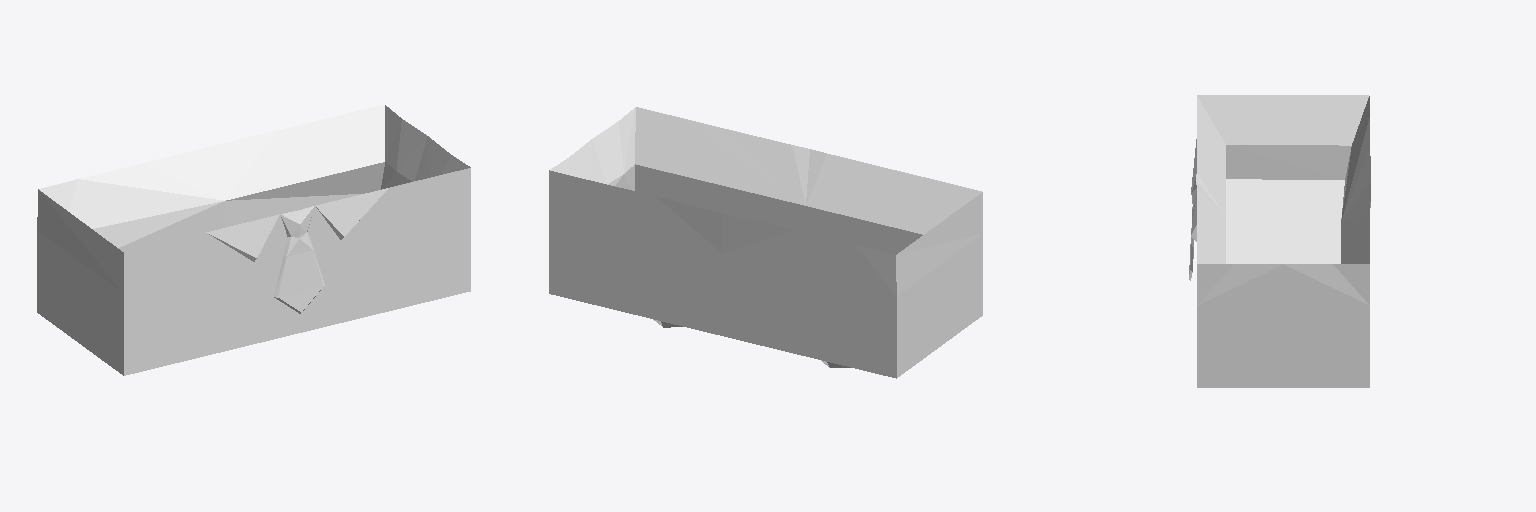
The model's file is pants.obj.
The picture shows the model from 3 angles: view 1: azimuth 30°, elevation 25°; view 2: azimuth 150°, elevation 25°; view 3: azimuth 270°, elevation 25°; orthographic projection.
Parts seen in each view (by area): view 1: mesh00512, mesh0049, mesh0050; view 2: mesh00512, mesh0049, mesh0050; view 3: mesh00512, mesh0049, mesh0050.
Part boxes in pixels (x1,y1,x2,y2): mesh00512: (37,168,470,375); mesh0049: (39,104,470,228); mesh0050: (93,162,411,251); mesh00512: (549,170,982,378); mesh0049: (550,107,981,234); mesh0050: (608,164,922,254); mesh00512: (1189,139,1370,387); mesh0049: (1196,95,1370,263); mesh0050: (1226,145,1351,263).
Bounding box in the file's own units: 1.49 × 0.6249 × 0.675.